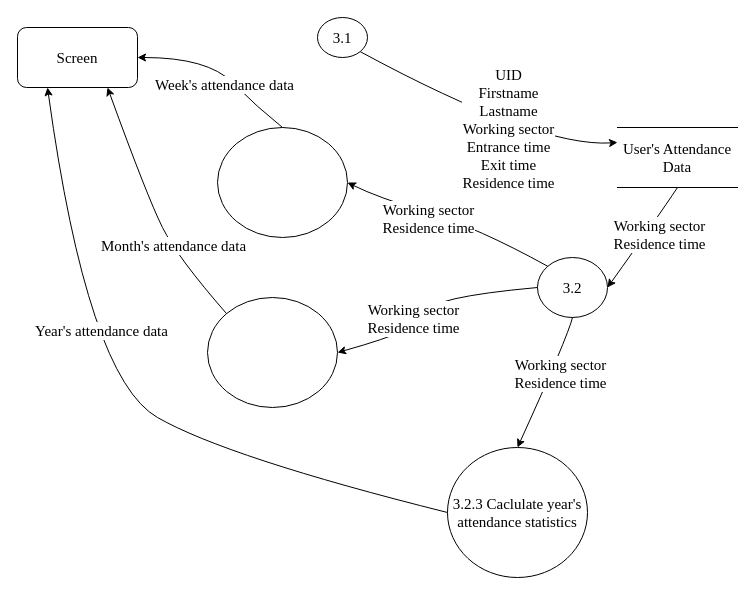
The diagram is 755 pixels wide and 595 high, and some of its shapes have lost their labels. Each missing label, with the centre of its shape:
3.2.1 Caclulate week's attendance statistics: point 282,182
3.2.2 Caclulate month's attendance statistics: point 272,352
